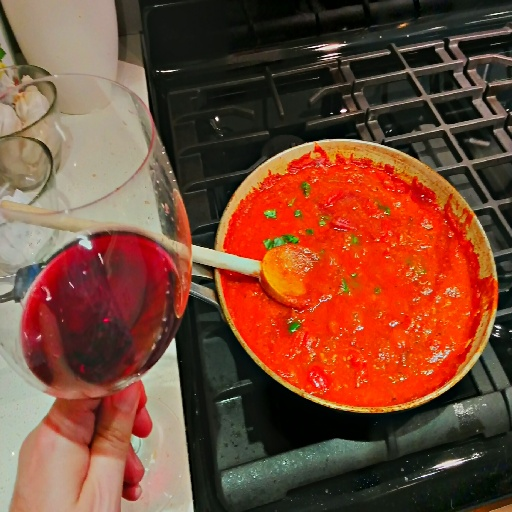hand: (10, 387, 145, 510)
